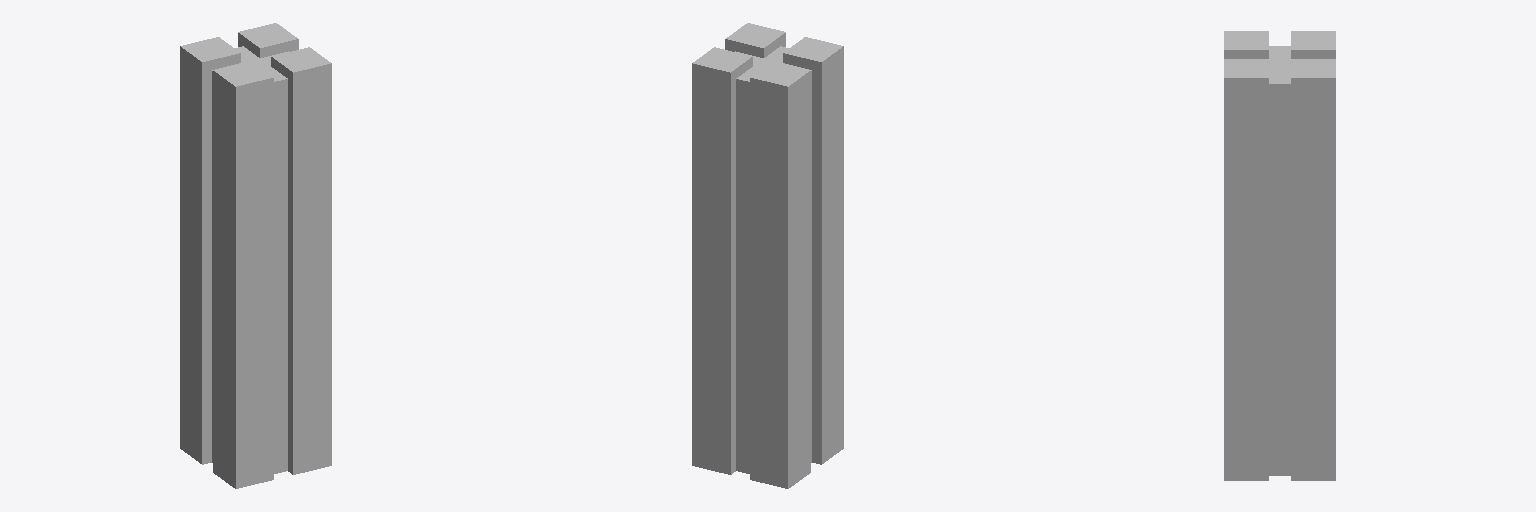
File: low_buildingE.obj
The picture shows the model from 3 angles: view 1: azimuth 30°, elevation 25°; view 2: azimuth 150°, elevation 25°; view 3: azimuth 270°, elevation 25°; orthographic projection.
Parts seen in each view (by area): view 1: low_buildingE; view 2: low_buildingE; view 3: low_buildingE.
Part boxes in pixels (bbox=[...]): low_buildingE: bbox=[180, 23, 331, 488]; low_buildingE: bbox=[692, 23, 843, 488]; low_buildingE: bbox=[1224, 31, 1335, 480].
Size of the model in its own units: 0.5 by 2 by 0.5.